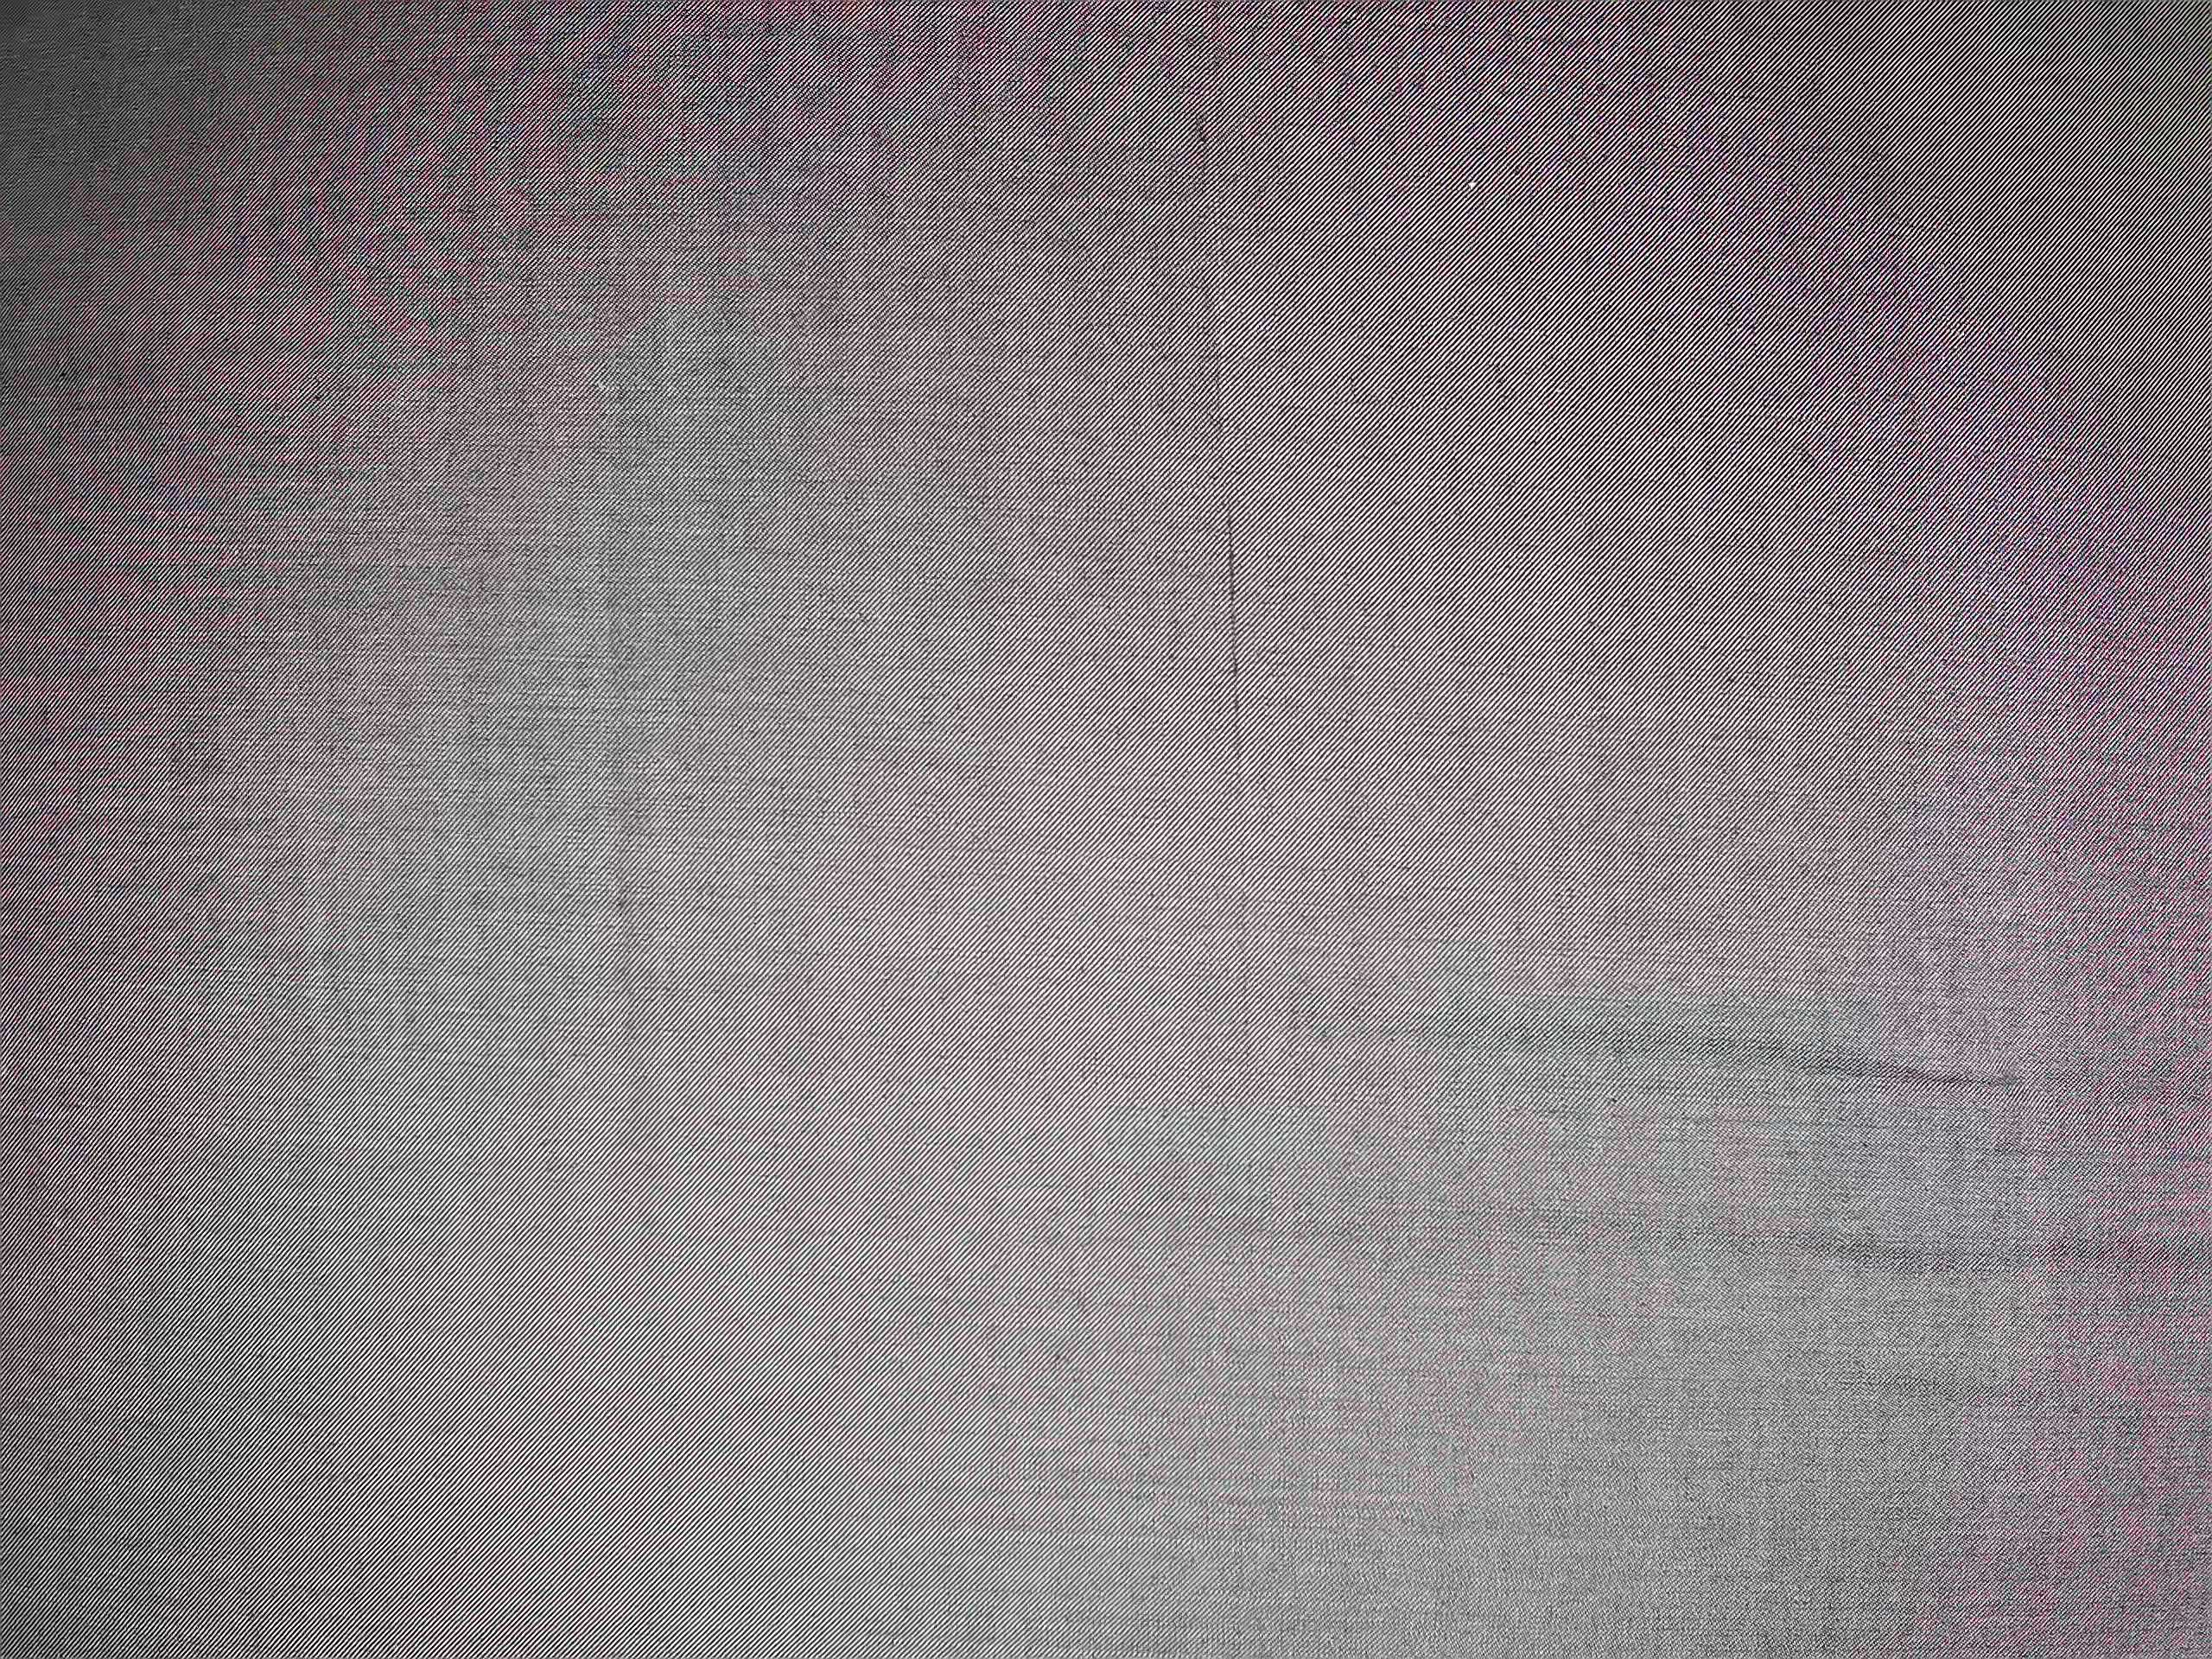hanging-warp: (1193, 7, 1273, 1114)
